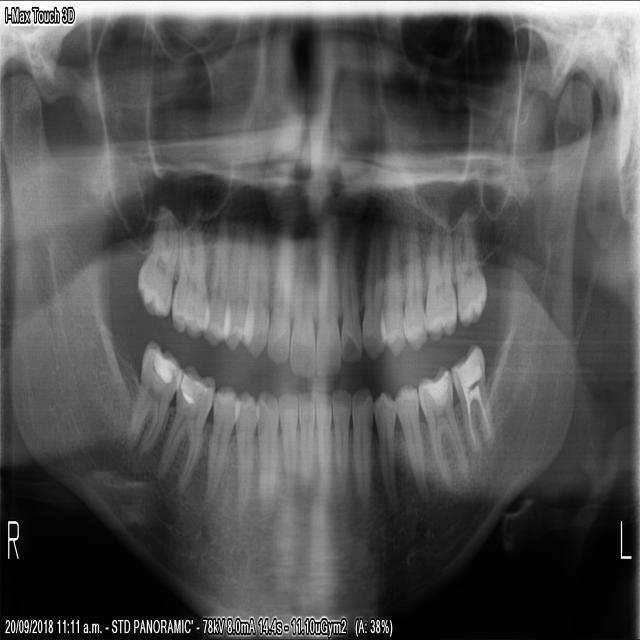LCD: (349, 381, 373, 510)
LCU: (359, 222, 385, 366)
LID: (326, 384, 351, 492), (313, 382, 334, 500)
LIU: (313, 228, 343, 382), (337, 220, 362, 370)
LMD: (414, 361, 470, 492), (446, 337, 496, 459)
LMU: (451, 204, 490, 330), (420, 214, 458, 341)
LPMD: (390, 374, 430, 506), (370, 384, 403, 522)
LPMU: (376, 218, 407, 361), (400, 216, 428, 355)
RCD: (252, 384, 278, 521)
RCU: (240, 218, 269, 364)
RID: (275, 384, 297, 514), (295, 381, 315, 494)
RIU: (286, 225, 315, 380), (263, 226, 294, 367)
RMD: (152, 357, 214, 500), (121, 330, 182, 460)
RMU: (134, 206, 178, 323), (169, 213, 209, 339)
RPMD: (199, 380, 240, 513), (227, 384, 259, 534)
RPMU: (220, 218, 255, 357), (200, 214, 230, 350)
